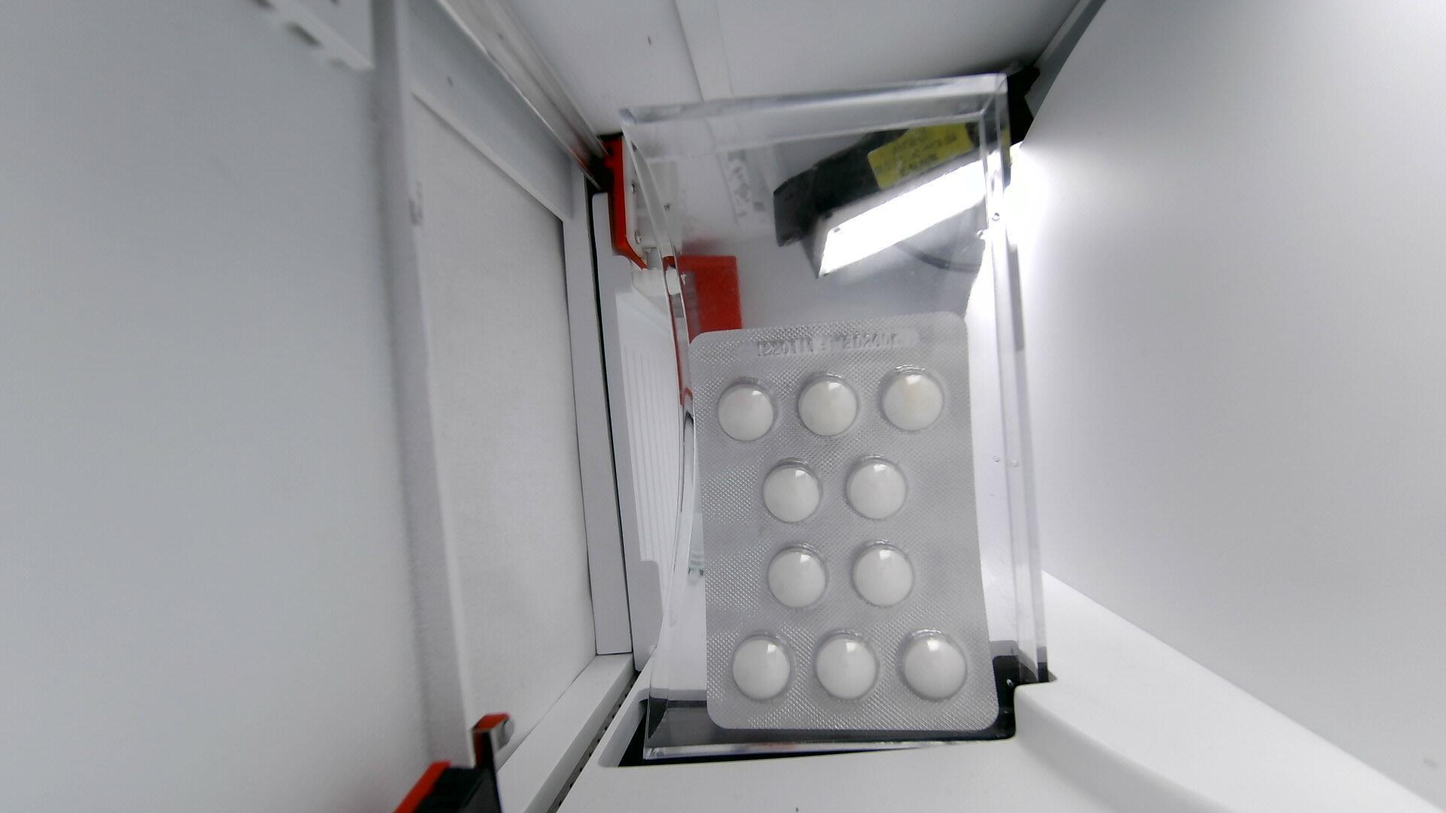Light Front: (691, 312, 1014, 741)
Pill Front: (898, 629, 967, 701), (880, 367, 946, 432), (815, 633, 879, 700), (711, 378, 777, 442), (796, 373, 861, 437), (731, 634, 793, 701), (844, 456, 908, 520), (852, 544, 915, 607), (761, 462, 822, 522), (768, 547, 827, 609)
